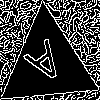A: (22, 38, 72, 95)
